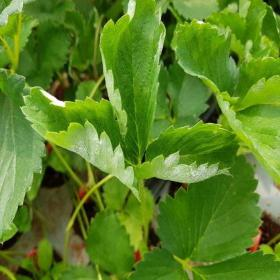Powdery Mildew Leaf: (19, 86, 141, 203), (98, 0, 166, 163), (136, 119, 241, 183)
